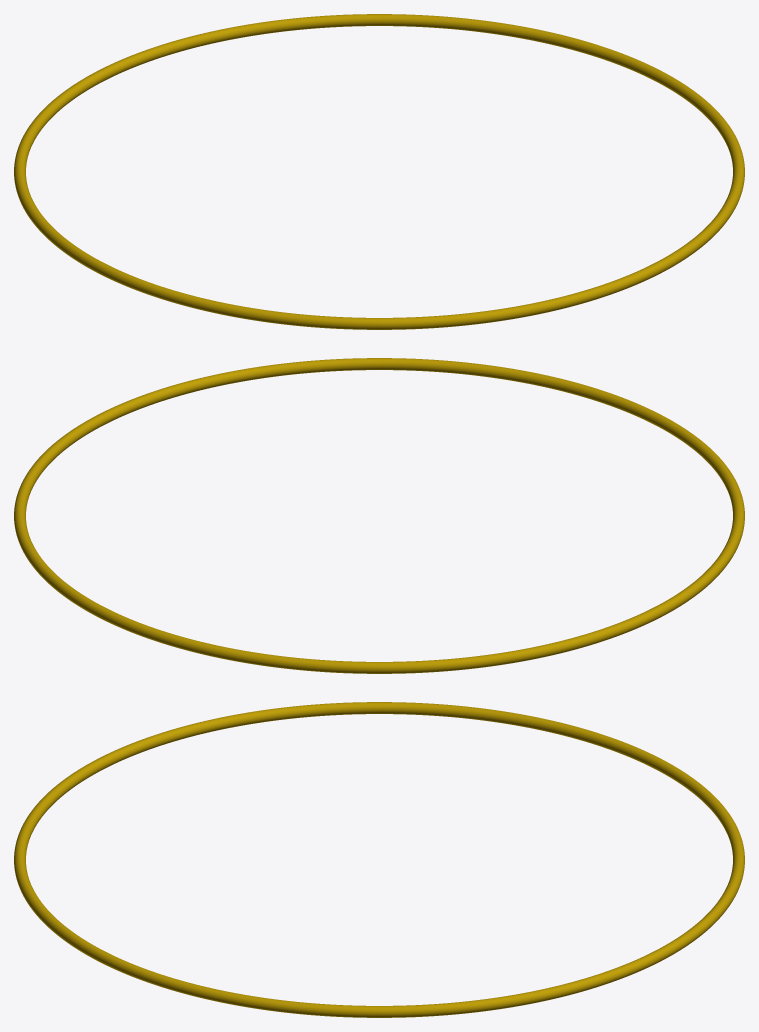
The model's file is torus_gold_oldest.gltf.
3 renders of one model, top to bottom at view 1: azimuth 30°, elevation 25°; view 2: azimuth 150°, elevation 25°; view 3: azimuth 270°, elevation 25°, orthographic.
Parts seen in each view (by area): view 1: sopimport1; view 2: sopimport1; view 3: sopimport1.
Part boxes in pixels (x1,y1,x2,y2): sopimport1: [14, 14, 744, 329]; sopimport1: [14, 358, 744, 673]; sopimport1: [14, 702, 744, 1017].
Bounding box in the file's own units: 12.2 × 0.2 × 12.2.
